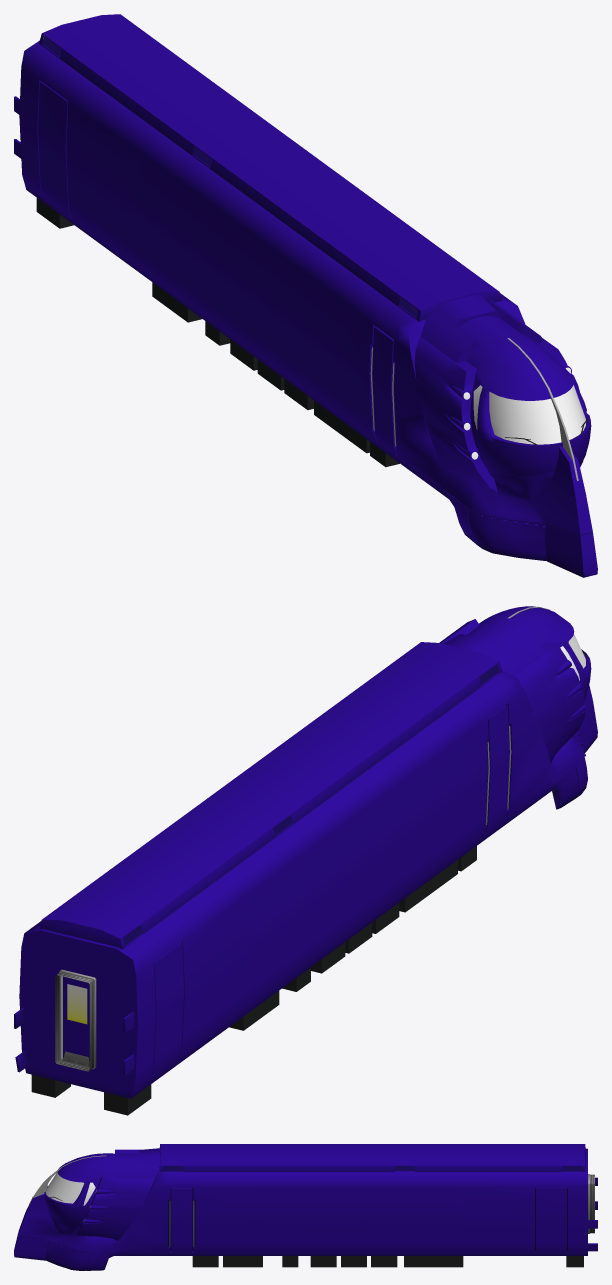
The model's file is RAPID_00.glb.
The picture shows the model from 3 angles, top to bottom: view 1: azimuth 30°, elevation 25°; view 2: azimuth 150°, elevation 25°; view 3: azimuth 270°, elevation 25°; orthographic projection. The views are drawn at different scales.
Visible parts, largest first — view 1: obj31; view 2: obj31; view 3: obj31.
Part boxes in pixels (bbox=[...]): obj31: bbox=[14, 14, 597, 577]; obj31: bbox=[14, 606, 597, 1115]; obj31: bbox=[14, 1144, 597, 1270].
Bounding box in the file's own units: 6.54 × 9.78 × 49.35.
12 materials, 12 textured.
